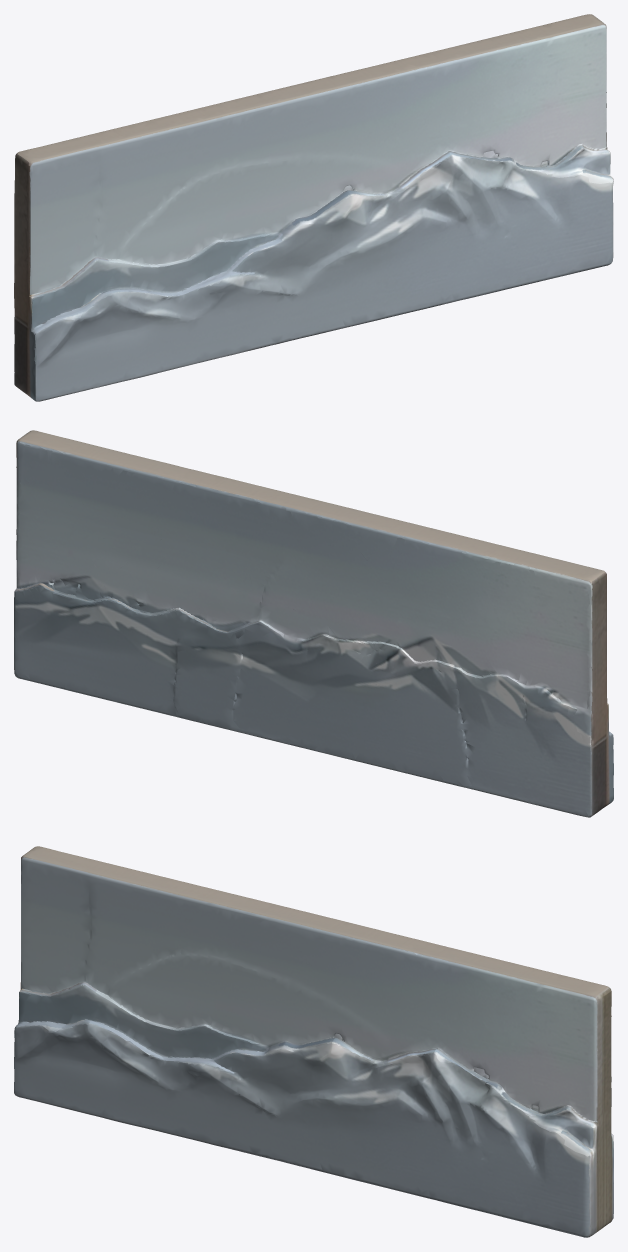
The model's file is mountain-far.glb.
3 renders of one model, top to bottom at view 1: azimuth 30°, elevation 25°; view 2: azimuth 150°, elevation 25°; view 3: azimuth 330°, elevation 25°, orthographic.
Visible parts, largest first — view 1: geometry_0; view 2: geometry_0; view 3: geometry_0.
Boxes of the visible parts, x1,y1,x2,y2 form: geometry_0: [14, 14, 613, 401]; geometry_0: [14, 430, 613, 817]; geometry_0: [14, 846, 613, 1237].
Bounding box in the file's own units: 1.2 × 0.4695 × 0.092.
1 material, 1 textured.
